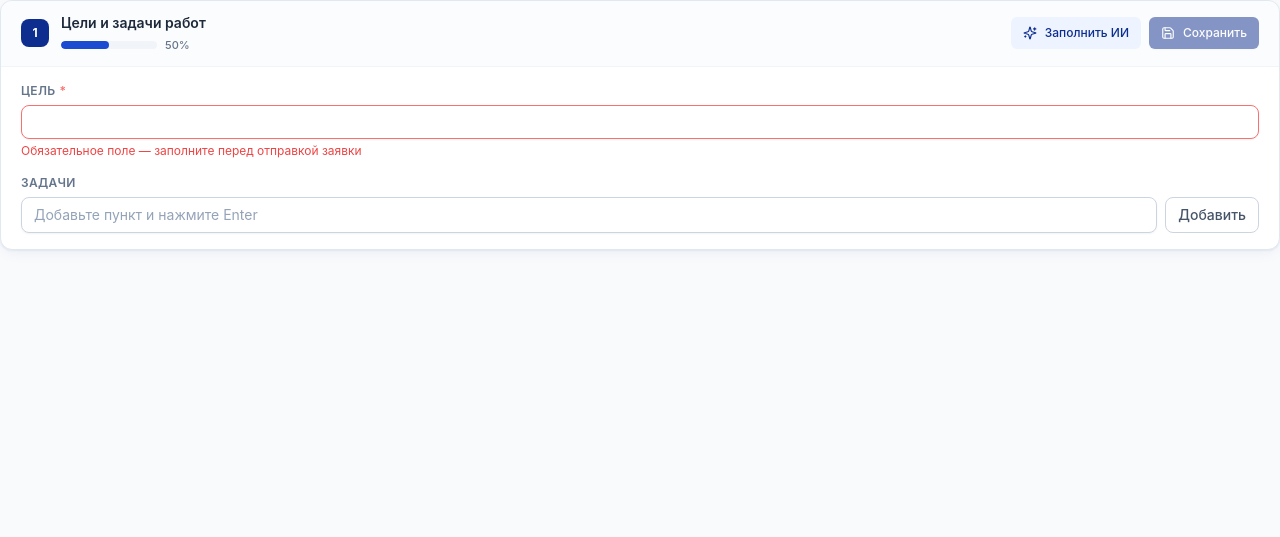
Test: TzBlockCard (filled_by) › «Заполнить ИИ»: job-поллинг, черновик и применение с filled_by=ai
The image size is (1280, 537).
Click the button "Заполнить ИИ" at {"x": 1076, "y": 33}, box [1011,17,1141,49]
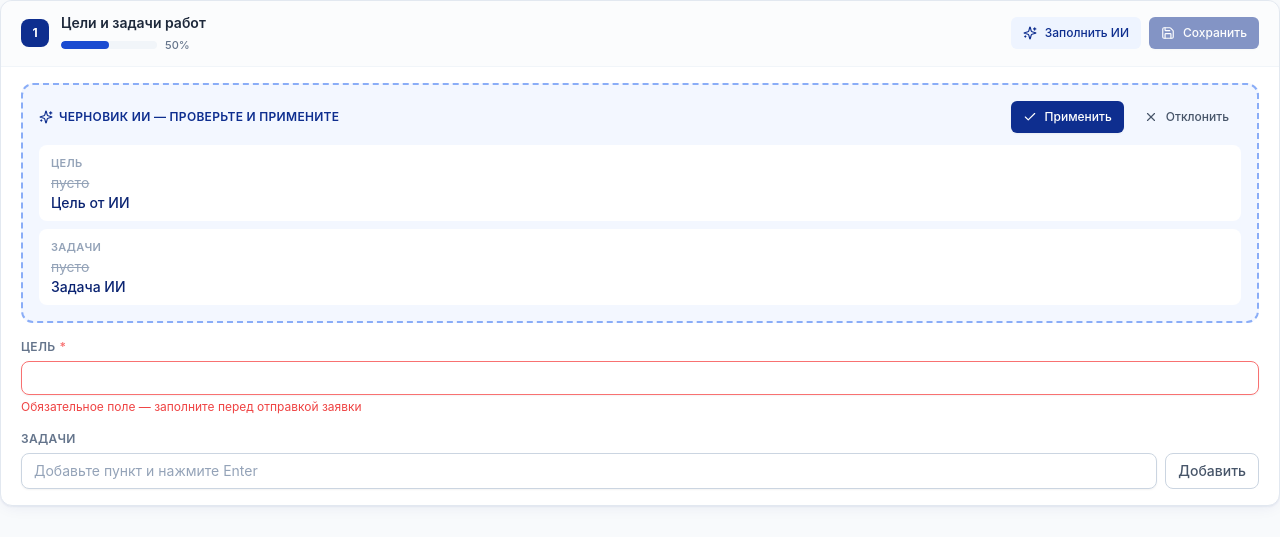
Result: the text "Черновик ИИ — проверьте и примените" is shown at [39,108,339,124]
Result: the text "Цель от ИИ" is shown at [51,194,130,210]
Click the button "Применить" at {"x": 1067, "y": 116}, box [1011,100,1124,132]
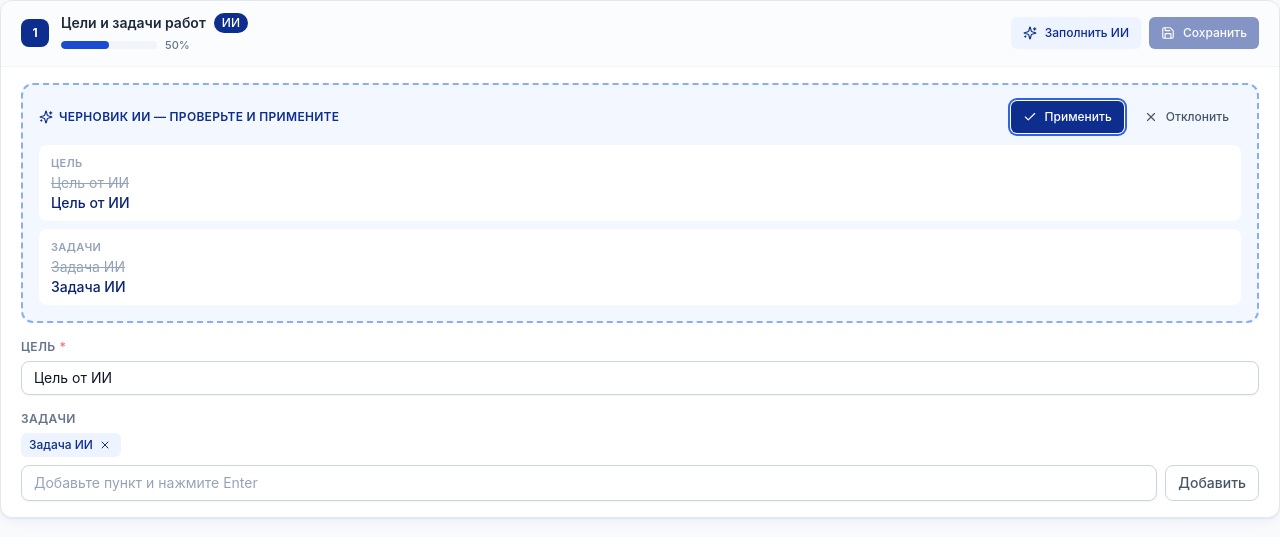
Result: the text "ИИ" is shown at [214,13,248,33]
